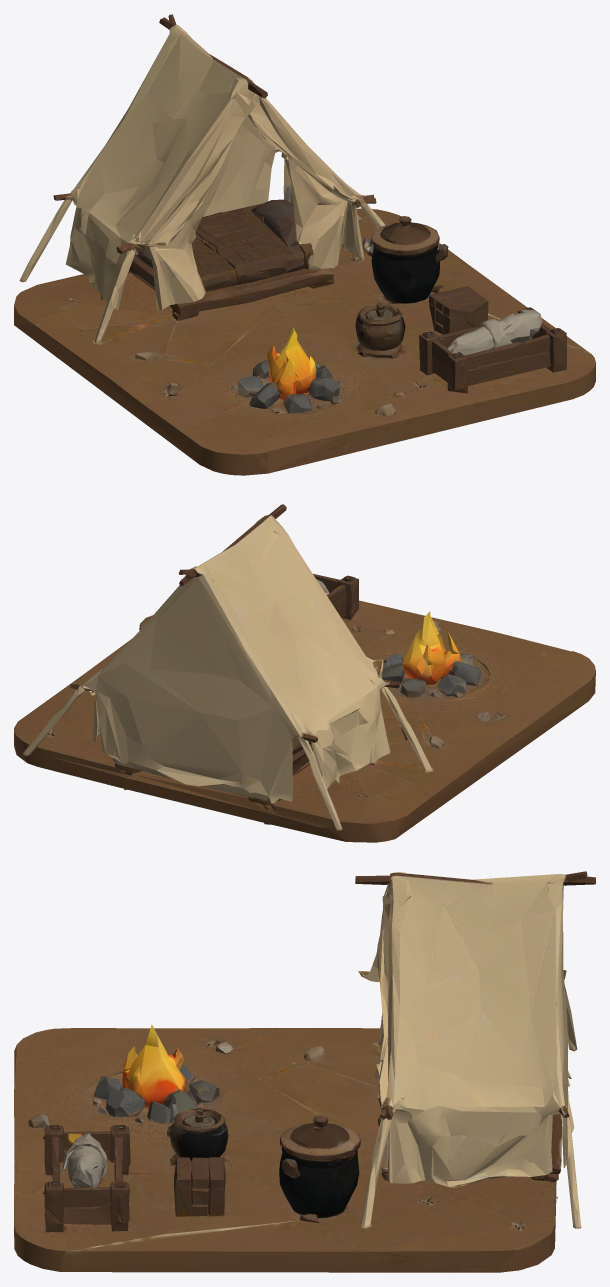
The model's file is camp.glb.
The picture shows the model from 3 angles, top to bottom: view 1: azimuth 30°, elevation 25°; view 2: azimuth 150°, elevation 25°; view 3: azimuth 270°, elevation 25°; orthographic projection. The views are drawn at different scales.
Bounding box in the file's own units: 1.72 × 1.03 × 1.9.
Materials: 1 (1 with a texture image).
